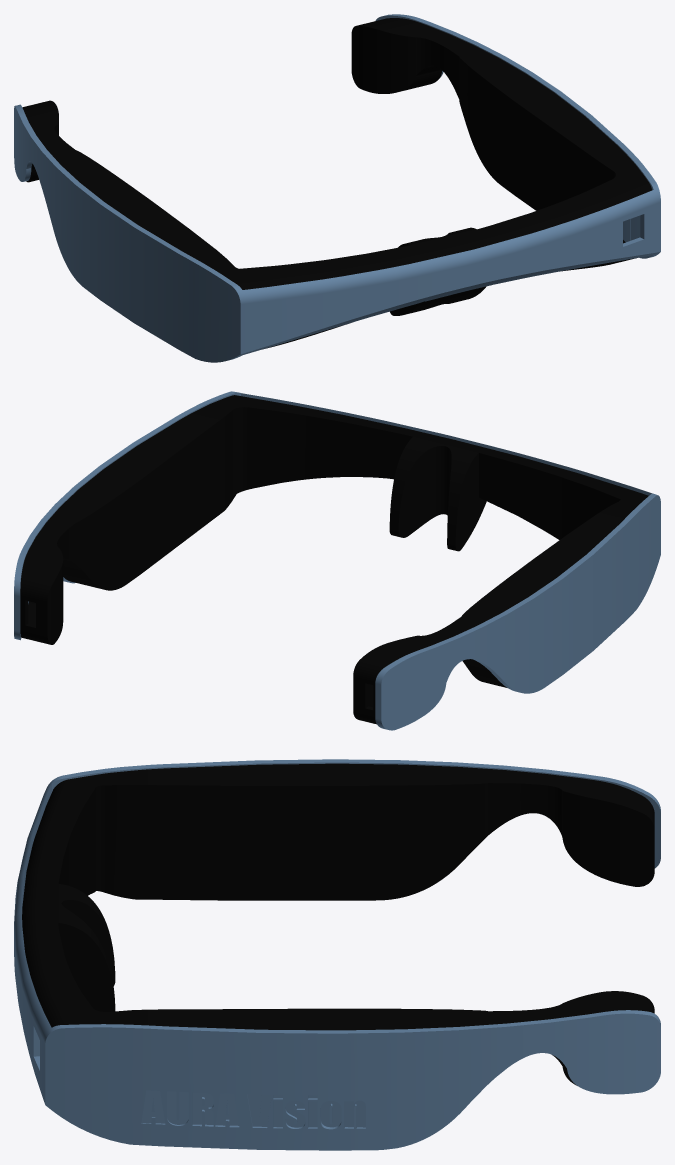
The model's file is smart_glasses.glb.
3 renders of one model, top to bottom at view 1: azimuth 30°, elevation 25°; view 2: azimuth 150°, elevation 25°; view 3: azimuth 270°, elevation 25°, orthographic. The views are drawn at different scales.
Size of the model in its own units: 0.1744 by 0.0347 by 0.1738.
